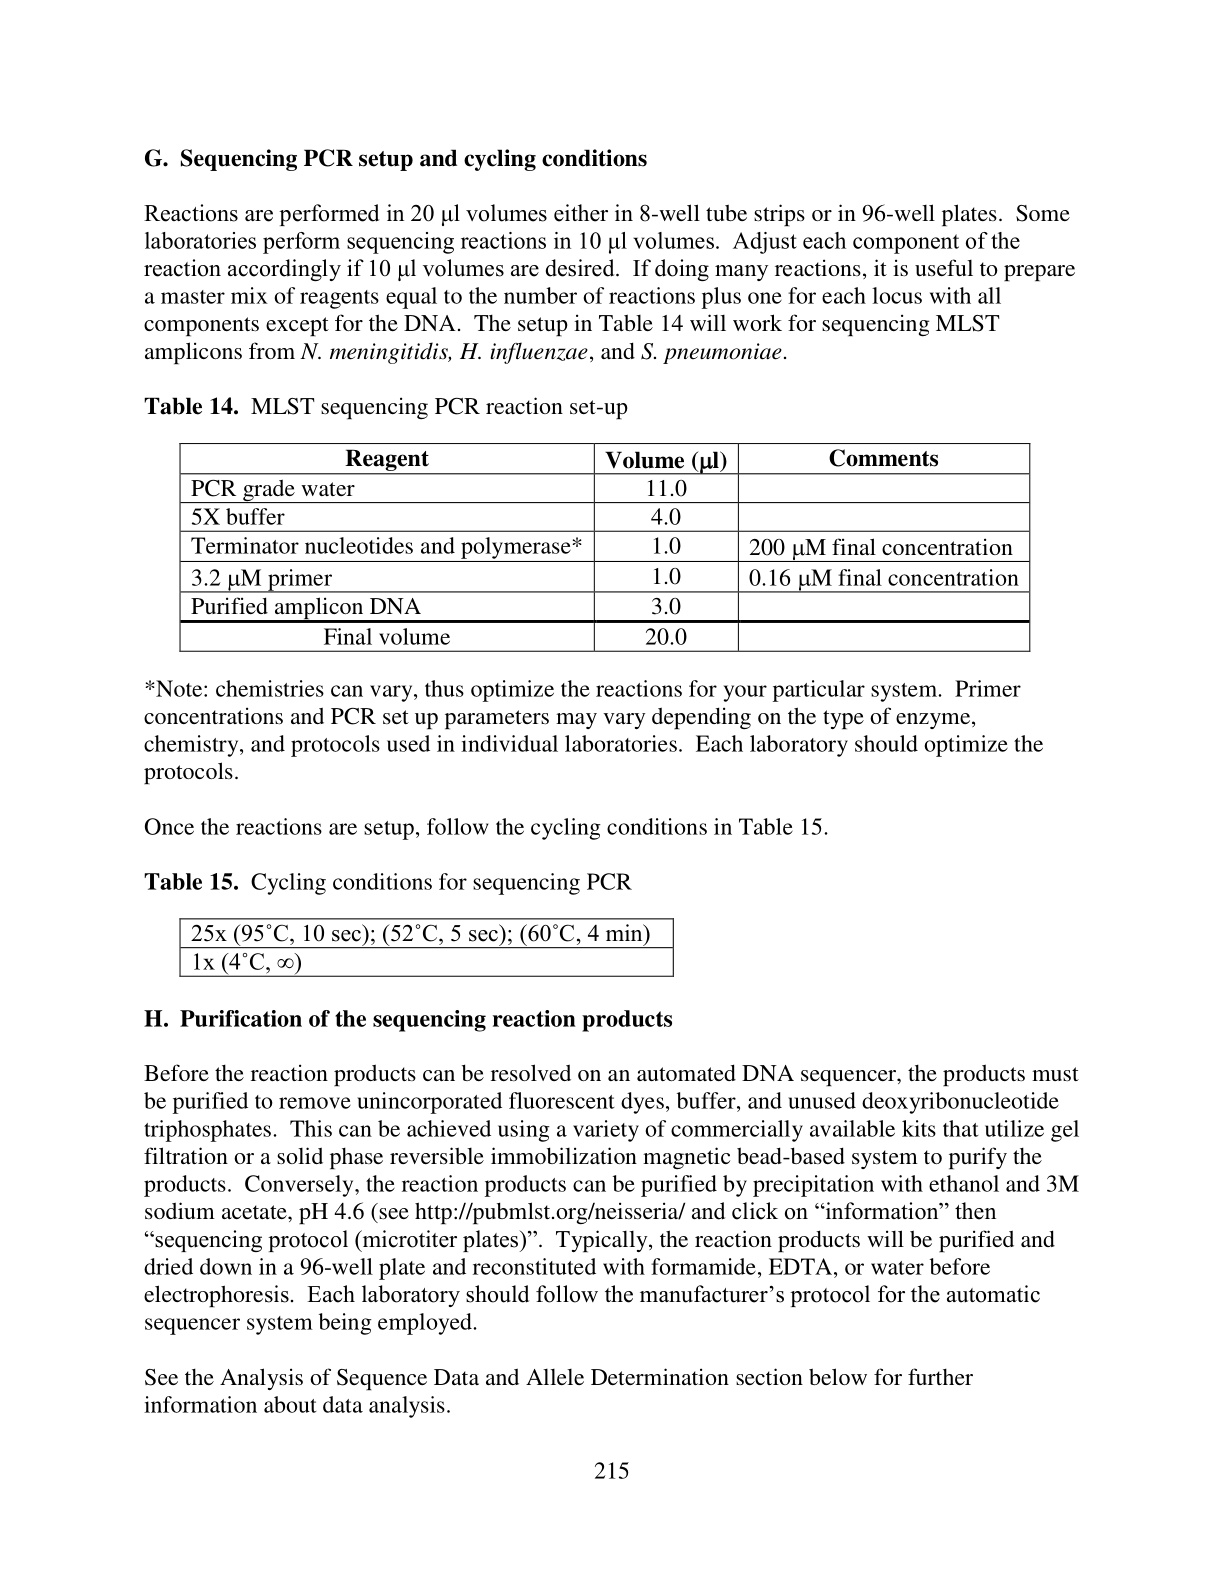full_lined: (179, 442, 1032, 653), (177, 917, 674, 977)
